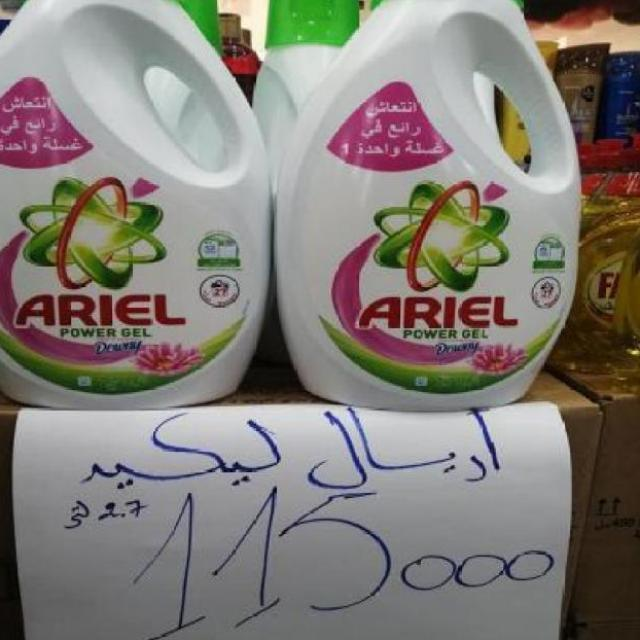Detergent: (273, 0, 565, 403)
